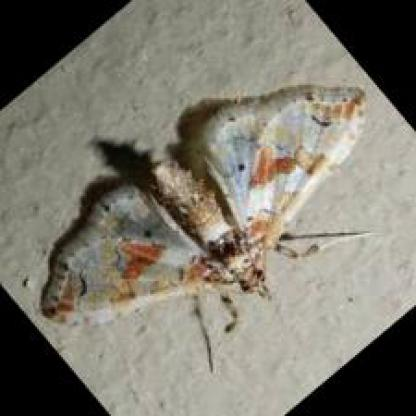leucinodes: (43, 91, 362, 329)
